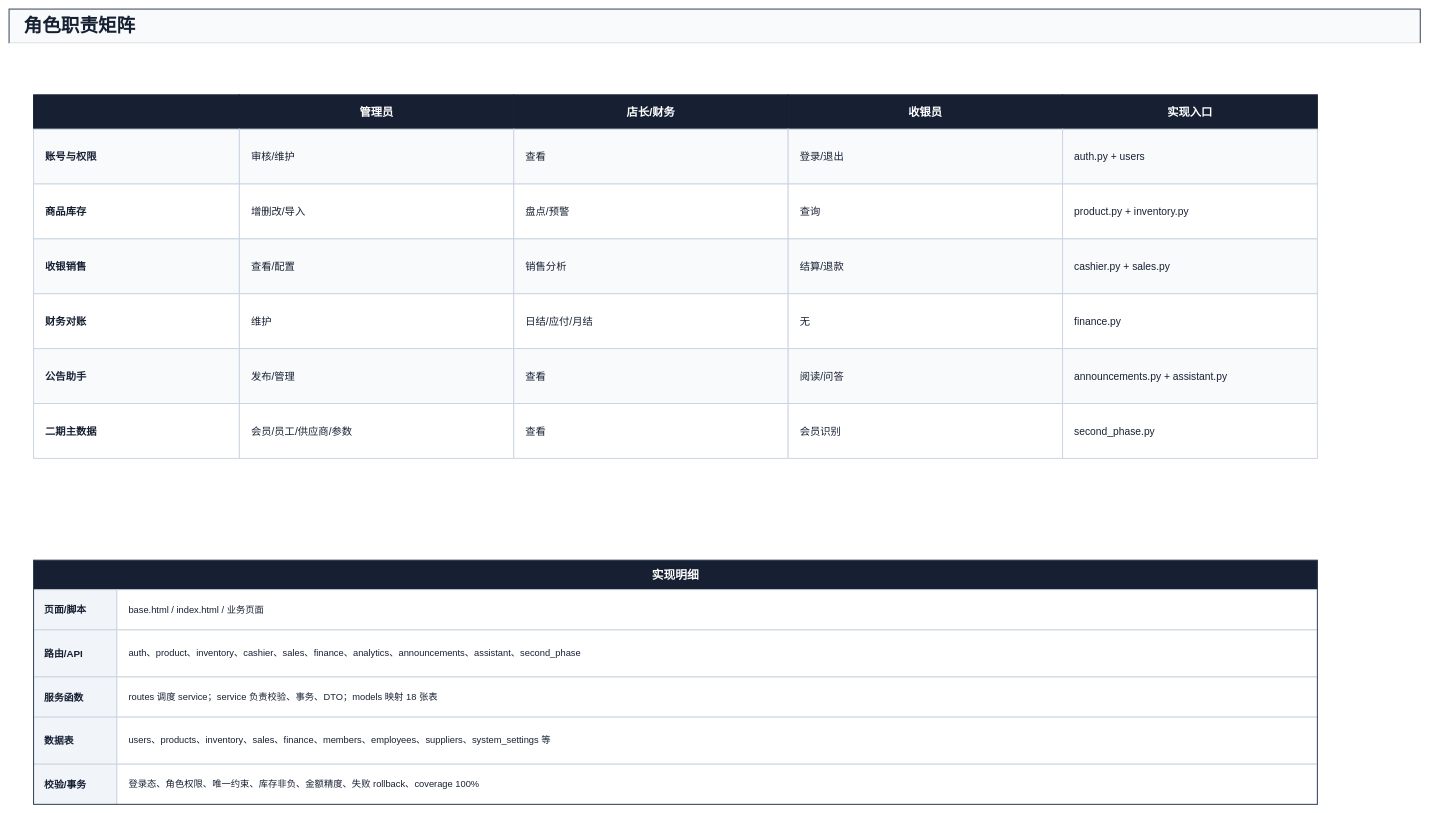
Image size: 1429x813. Some labels were removed from this diagram. The shapes that lost their labels are listed below. From the top down, each one's centre as x and y in pixels, then its label:
point 714,53: 矩阵图｜职责、实现入口、验收证据
point 136,111: 职责域
